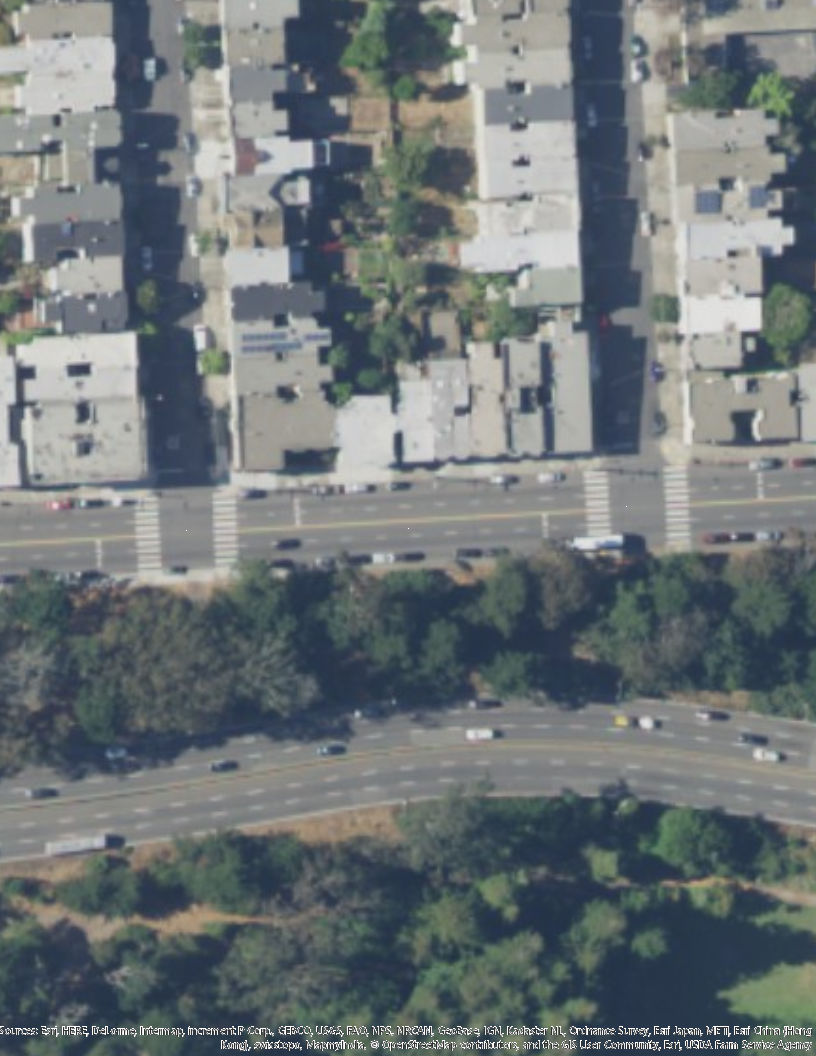zebracross: (662, 465, 694, 545), (133, 494, 163, 575), (210, 488, 237, 568), (584, 469, 614, 541)
